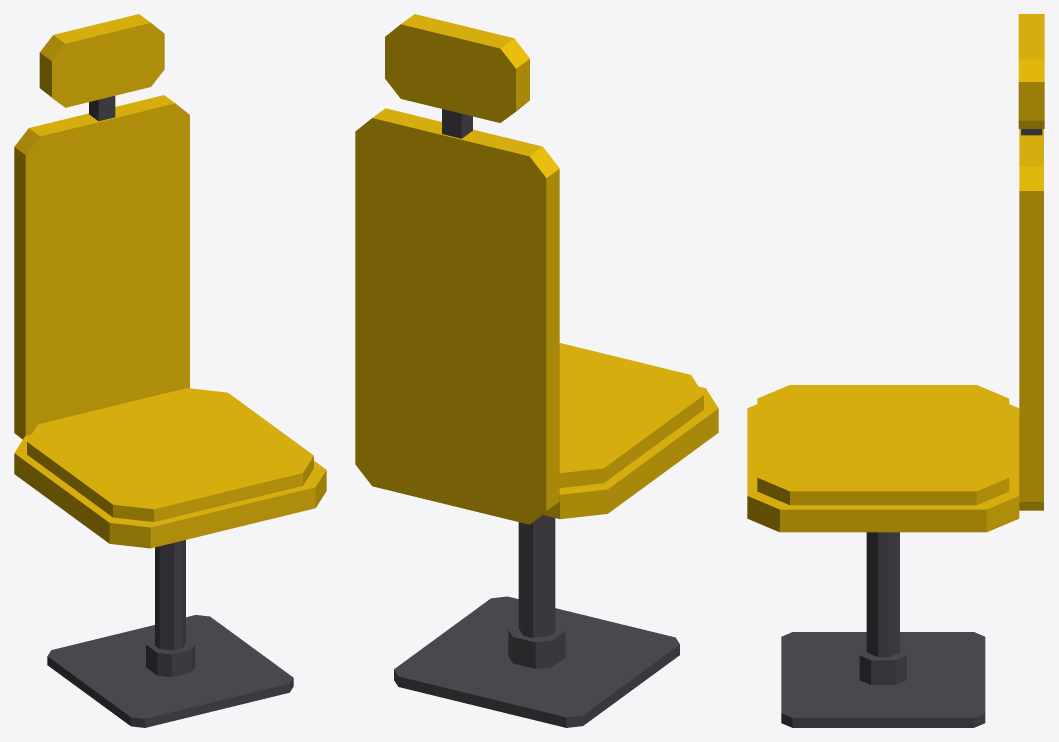
File: SM_Props_Furniture_07.fbx
The picture shows the model from 3 angles, left to right: view 1: azimuth 30°, elevation 25°; view 2: azimuth 150°, elevation 25°; view 3: azimuth 270°, elevation 25°; orthographic projection. The views are drawn at different scales.
Visible parts, largest first — view 1: SM_Props_Furniture_07; view 2: SM_Props_Furniture_07; view 3: SM_Props_Furniture_07.
Part boxes in pixels (<box>): SM_Props_Furniture_07: <box>14,14,326,727</box>; SM_Props_Furniture_07: <box>355,14,718,727</box>; SM_Props_Furniture_07: <box>747,14,1044,727</box>.
Bounding box in the file's own units: 0.5948 × 1.56 × 0.6502.
